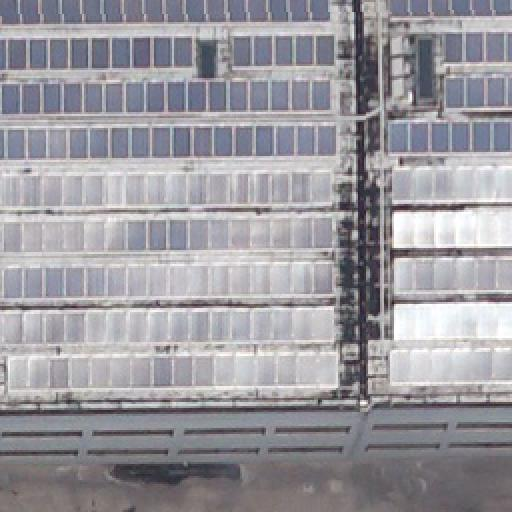solar-panel: (0, 304, 336, 348), (0, 259, 336, 301), (0, 216, 336, 256), (0, 170, 336, 210), (0, 124, 336, 164), (0, 78, 336, 118), (5, 352, 339, 392), (1, 0, 335, 28), (0, 36, 192, 72), (385, 163, 511, 205), (388, 211, 512, 253), (390, 301, 512, 339), (390, 253, 512, 291), (392, 345, 512, 383), (384, 119, 512, 153), (230, 35, 334, 69), (444, 76, 512, 112), (441, 31, 511, 65), (385, 0, 511, 16)
